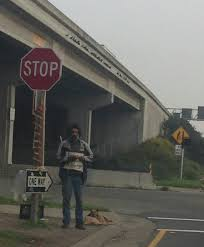laneEnds: (172, 124, 190, 145)
oneWay: (26, 168, 54, 193)
stop: (19, 45, 63, 93)
